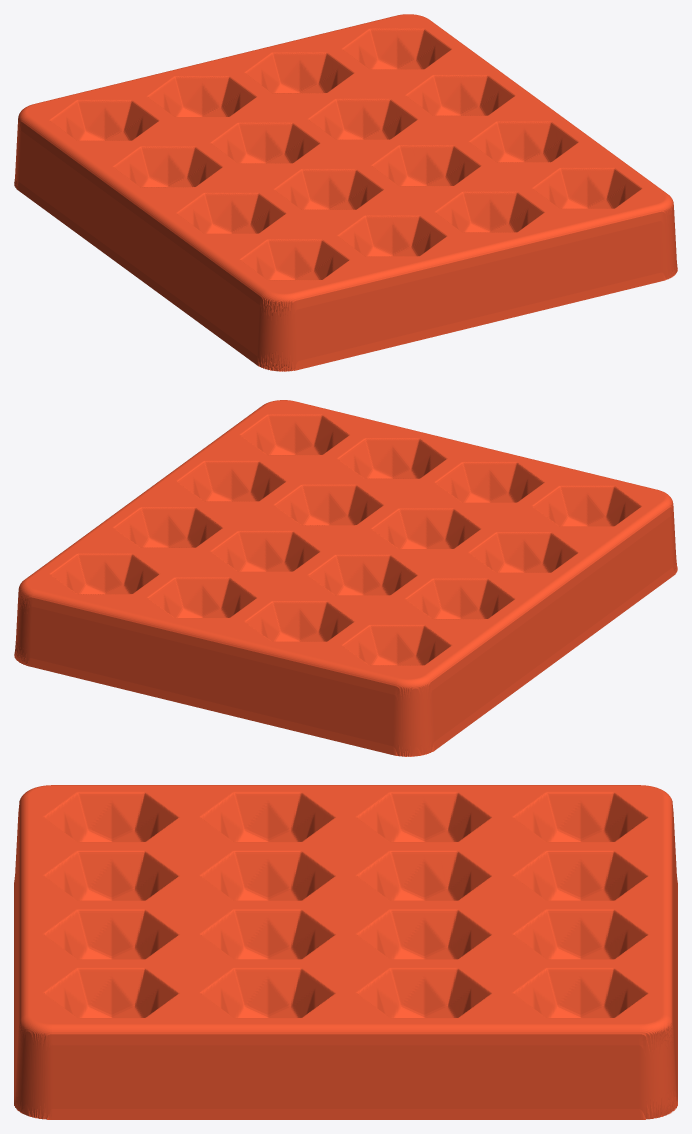
The model's file is mold.glb.
3 views of the same model, one above another, from view 1: azimuth 30°, elevation 25°; view 2: azimuth 150°, elevation 25°; view 3: azimuth 270°, elevation 25° (orthographic). The views are drawn at different scales.
Parts seen in each view (by area): view 1: geometry_0; view 2: geometry_0; view 3: geometry_0.
Part boxes in pixels (bbox=[...]): geometry_0: bbox=[14, 14, 677, 371]; geometry_0: bbox=[14, 400, 677, 756]; geometry_0: bbox=[14, 785, 677, 1119].
Bounding box in the file's own units: 0.1402 × 0.0233 × 0.1569.
